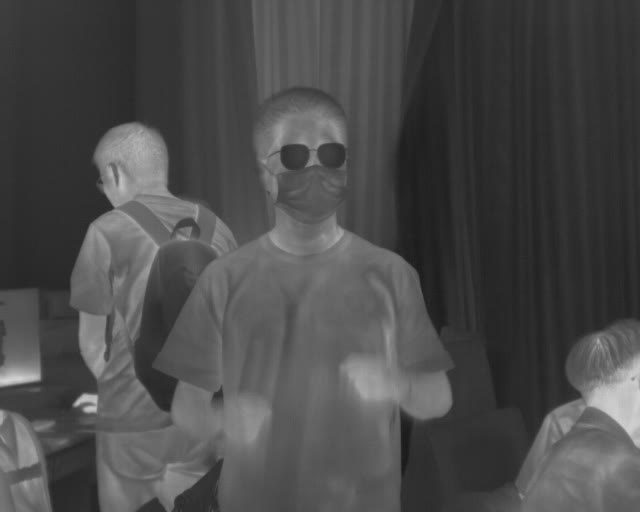face: (252, 86, 353, 225)
